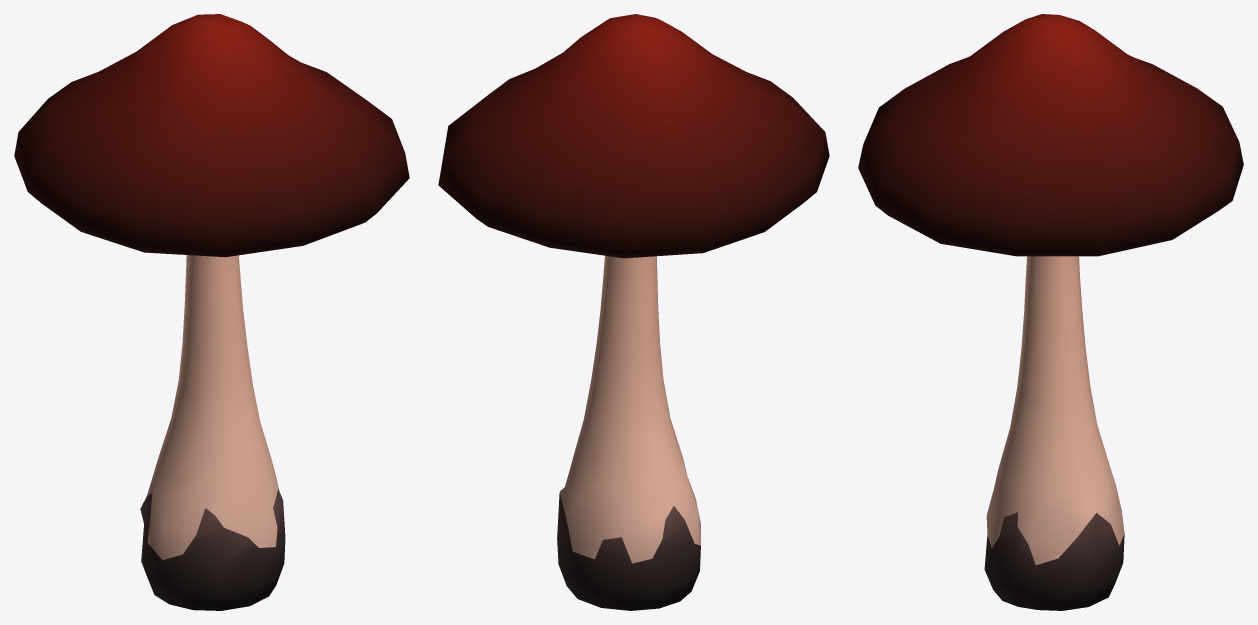
Rendered from Mushroom_0001_0024.fbx.
The picture shows the model from 3 angles, left to right: view 1: azimuth 30°, elevation 25°; view 2: azimuth 150°, elevation 25°; view 3: azimuth 270°, elevation 25°; orthographic projection.
Parts seen in each view (by area): view 1: Mushroom_0001_0024; view 2: Mushroom_0001_0024; view 3: Mushroom_0001_0024.
Part boxes in pixels (box(x1,y1,x2,y2)): Mushroom_0001_0024: box(14, 14, 409, 610); Mushroom_0001_0024: box(438, 14, 829, 610); Mushroom_0001_0024: box(858, 14, 1243, 610).
Bounding box in the file's own units: 0.1913 × 0.3185 × 0.1951.
1 material, 1 textured.
